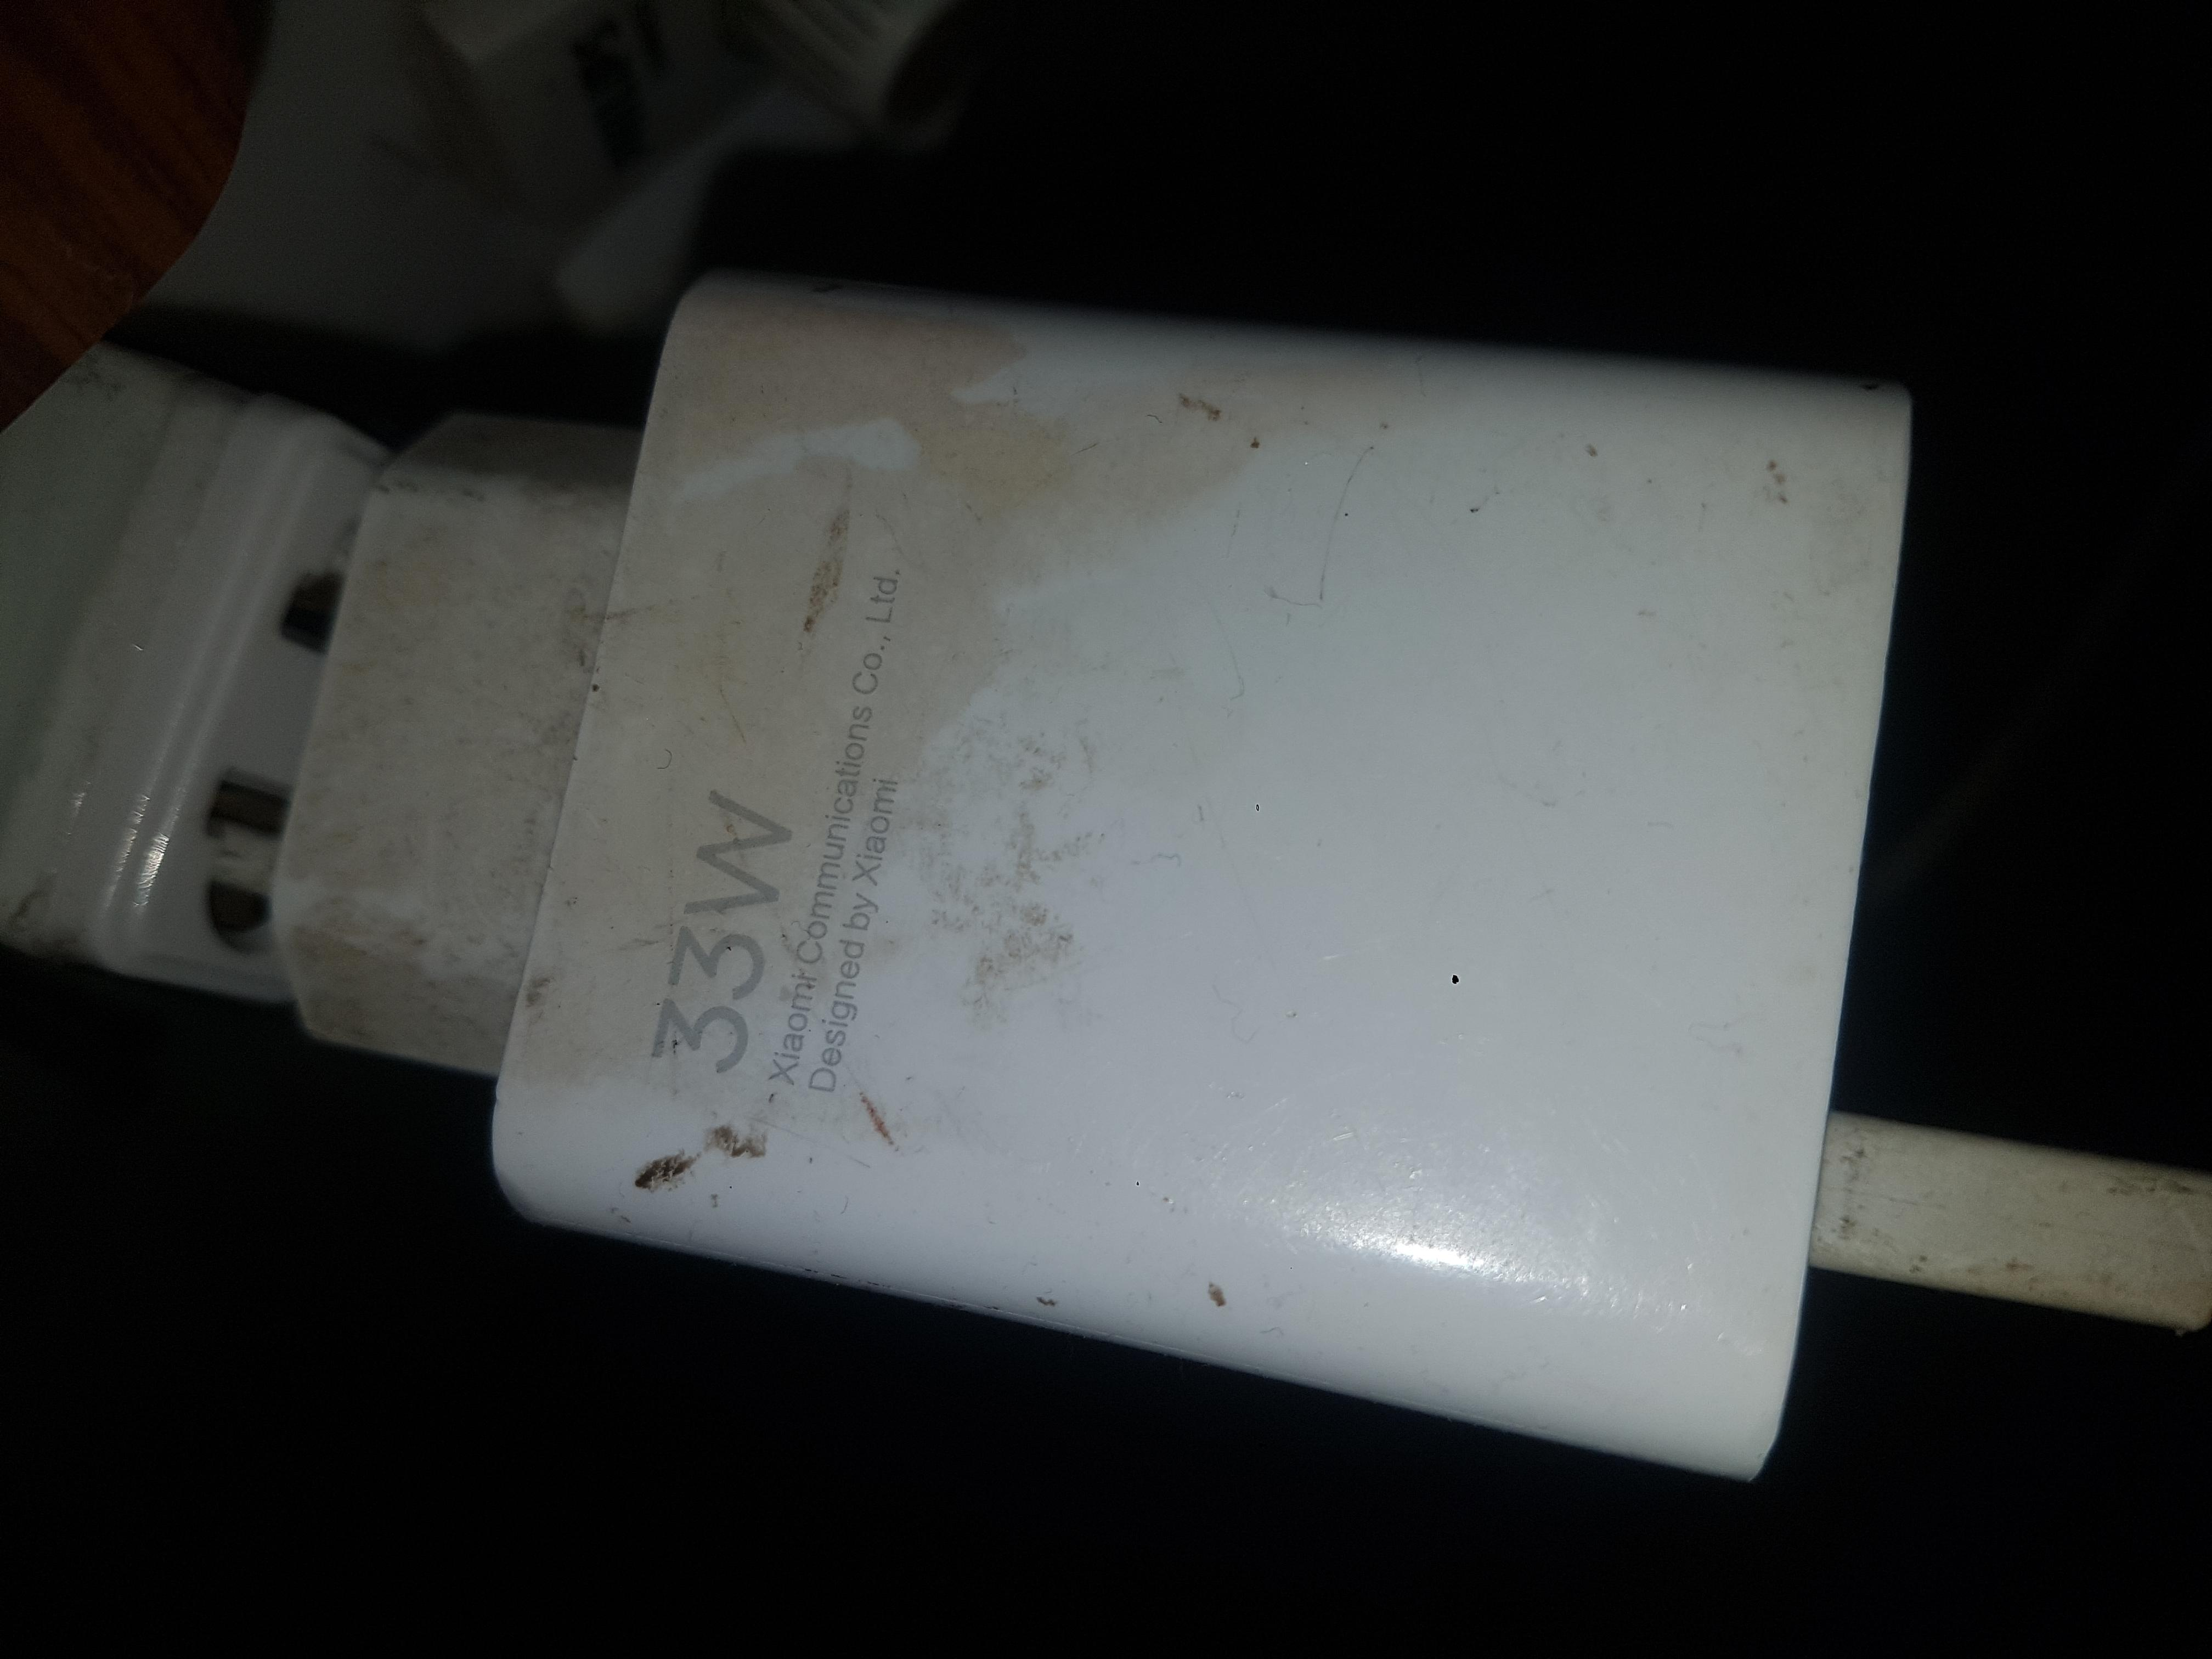electronic: (169, 0, 1895, 1659)
